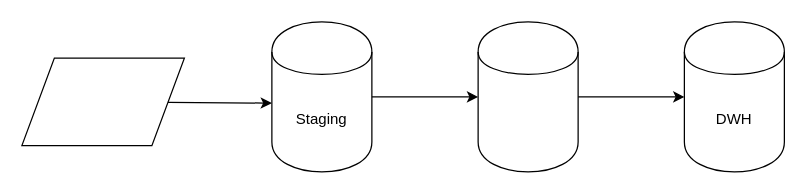
This 806x194 diagram has some shape labels left out. The centre of each missing label's shape, as x and y in pixels:
Files: the point at 102,101
ODS: the point at 527,96
